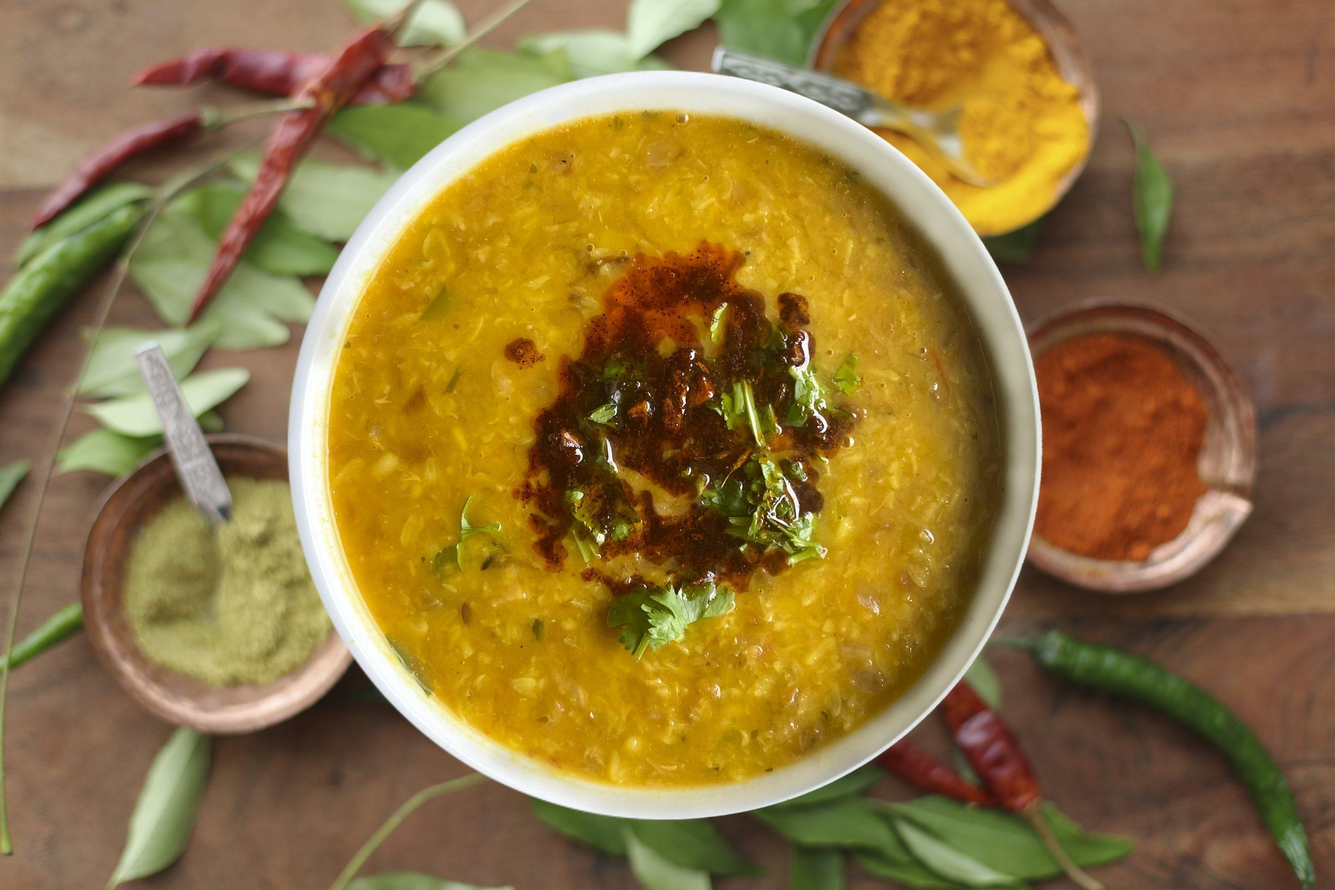Dal: (327, 110, 1004, 786)
